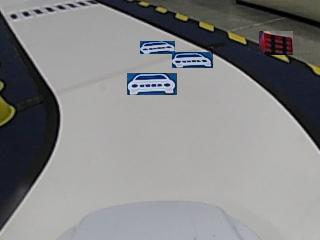crosswalk: (7, 1, 94, 20)
